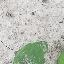Morning glory: (3, 11, 64, 64)
